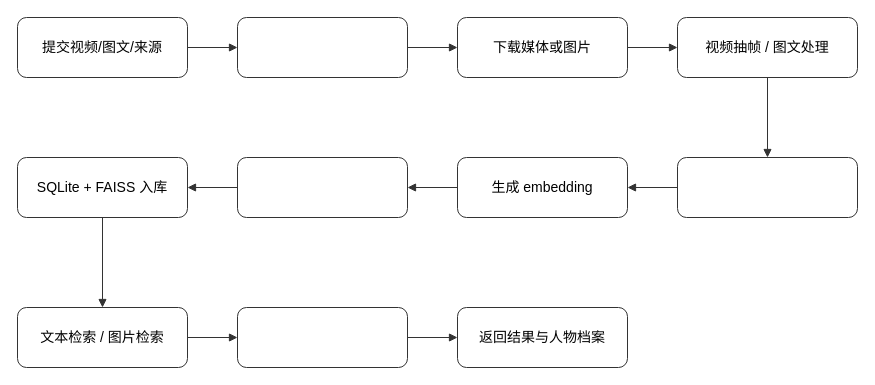
The diagram is 875 pixels wide and 385 high, and some of its shapes have lost their labels. Here are the shapes that lost their labels. From the top down, the box of each, then its label:
(236, 16, 408, 78): 解析平台与元数据
(236, 156, 408, 218): 合成语义文本
(676, 156, 858, 218): 人脸检测与质量过滤
(236, 306, 408, 368): 聚类与人工维护
